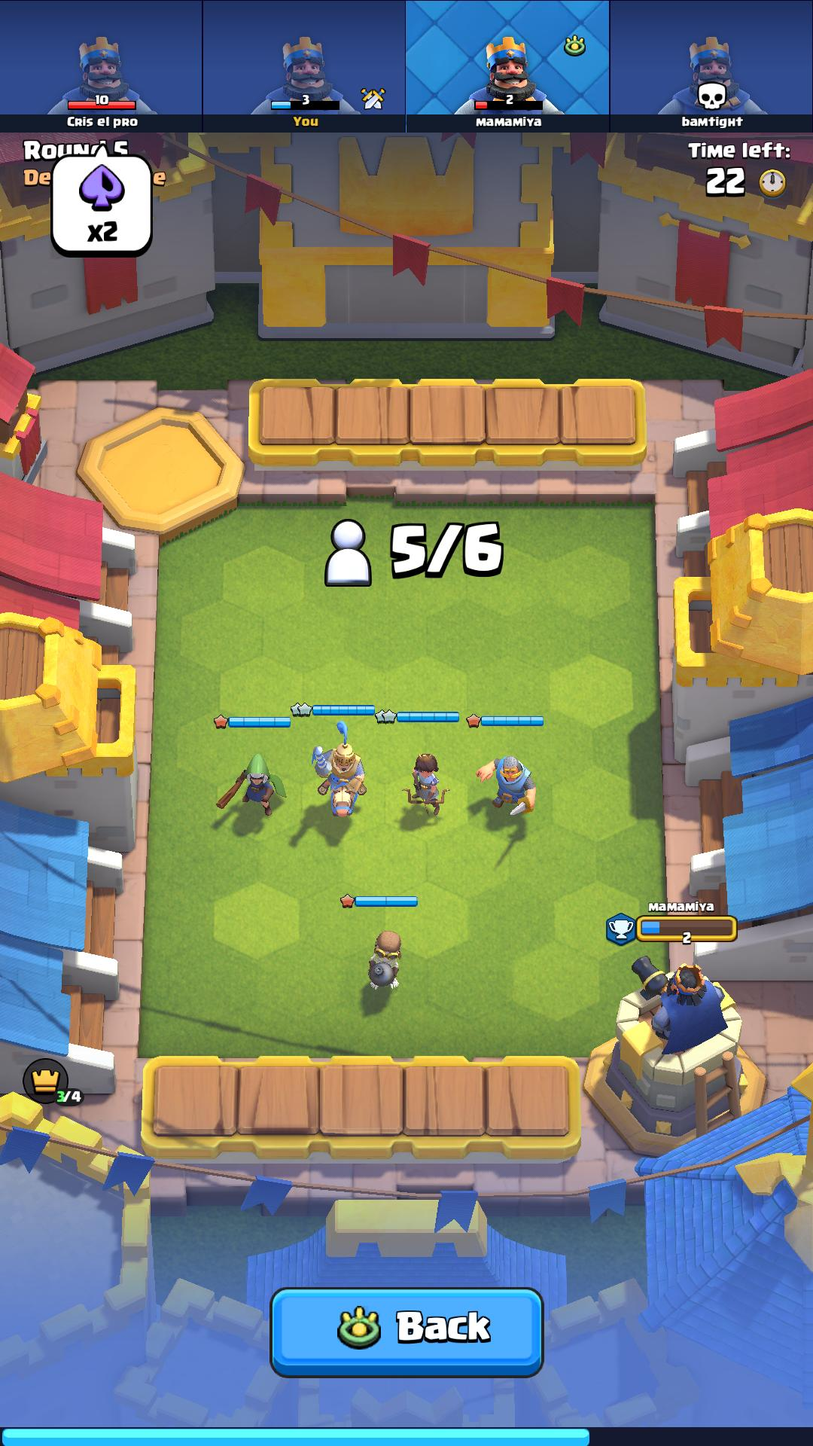bandit: (216, 745, 290, 815)
bomber: (356, 924, 411, 992)
knight: (473, 743, 547, 823)
prince: (303, 715, 376, 821)
princess: (391, 754, 450, 816)
